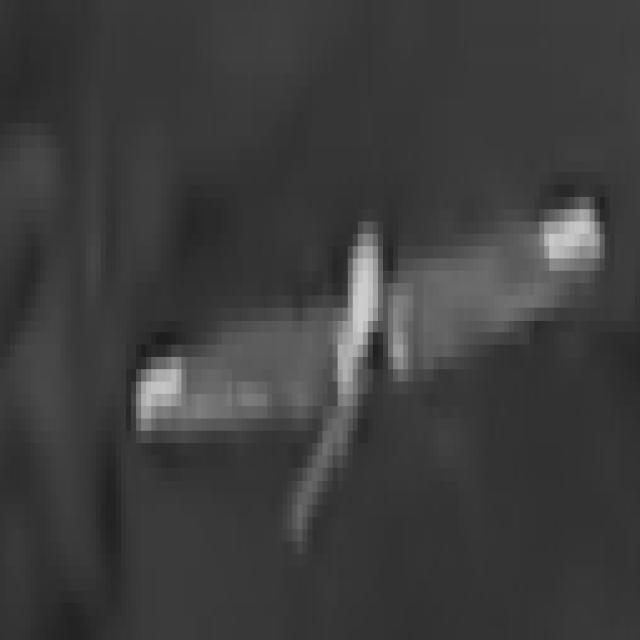iha: (130, 197, 600, 529)
